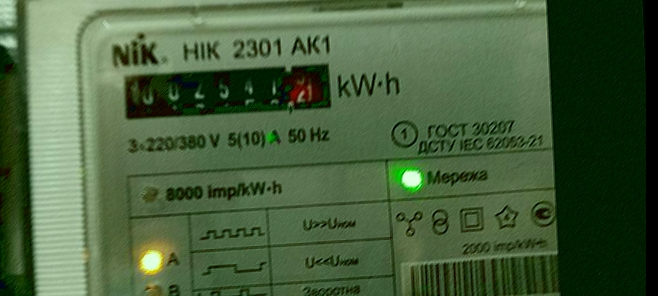0: (137, 79, 156, 106), (165, 75, 180, 103)
1: (265, 68, 279, 96)
2: (189, 74, 206, 100)
4: (241, 71, 255, 94)
5: (214, 72, 233, 100)
6: (292, 84, 308, 103)
screen: (110, 48, 346, 130)
